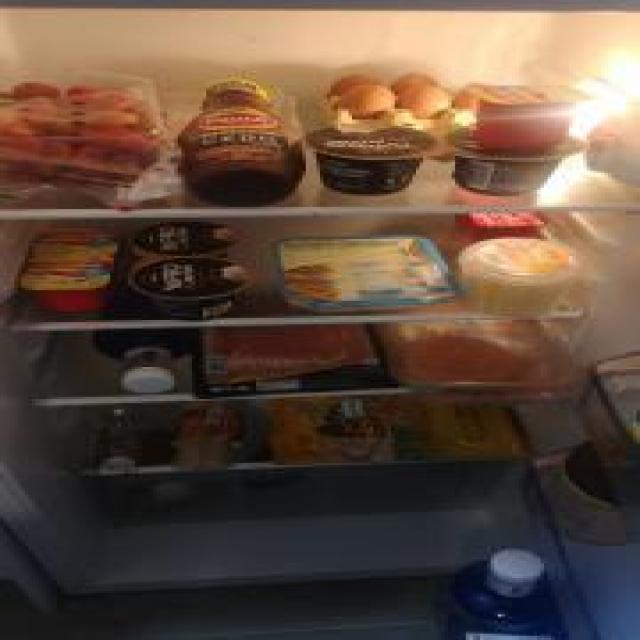egg: (332, 82, 400, 121), (398, 85, 455, 118)
sausage: (167, 396, 245, 474)
tortillas: (265, 396, 524, 466)
yogurt: (300, 122, 446, 198), (462, 80, 598, 155), (128, 255, 256, 321), (14, 257, 121, 313)
